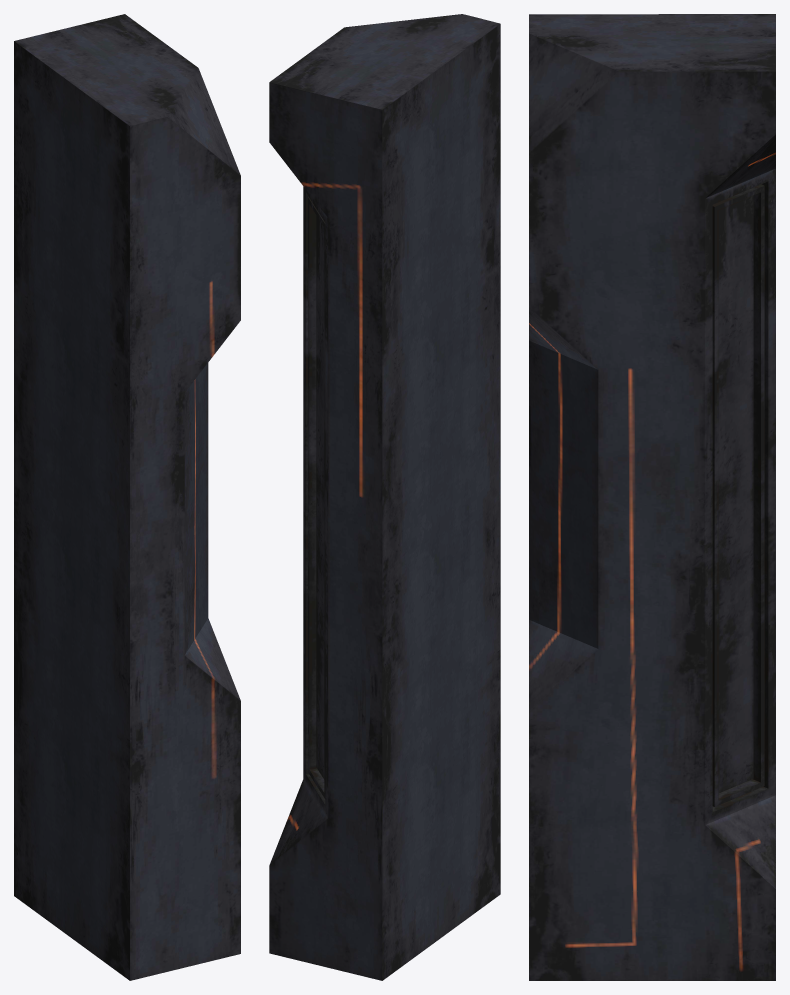
3 renders of one model, left to right at view 1: azimuth 30°, elevation 25°; view 2: azimuth 150°, elevation 25°; view 3: azimuth 270°, elevation 25°, orthographic. The views are drawn at different scales.
Visible parts, largest first — view 1: SB_04; view 2: SB_04; view 3: SB_04.
Part boxes in pixels (x1,y1,x2,y2): SB_04: (14, 14, 240, 980); SB_04: (269, 14, 500, 980); SB_04: (529, 14, 775, 980).
Bounding box in the file's own units: 609 × 4484 × 1103.
1 material, 1 textured.
